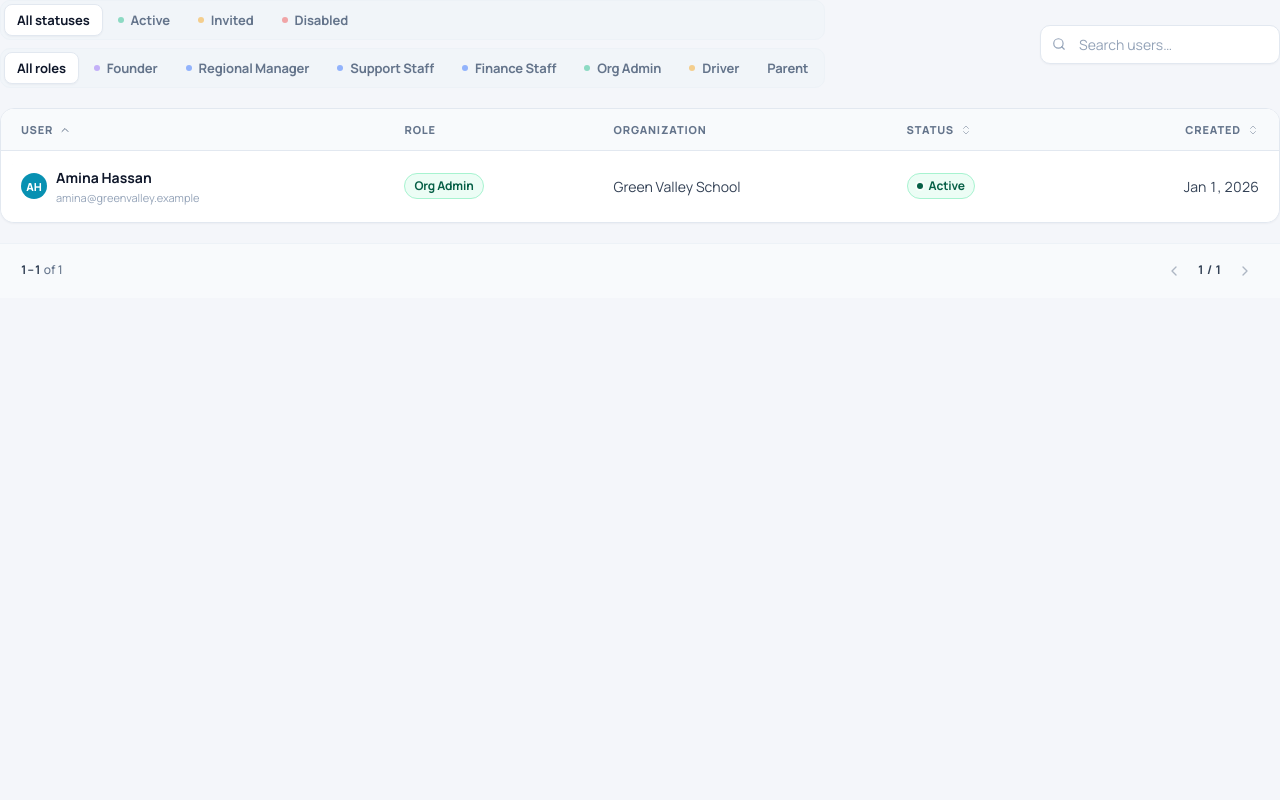
Scenario: UsersPage › regional_manager sees the Reset password action but not Activate/Disable
Click the text "Amina Hassan".
click(104, 178)  # box [56,168,152,187]
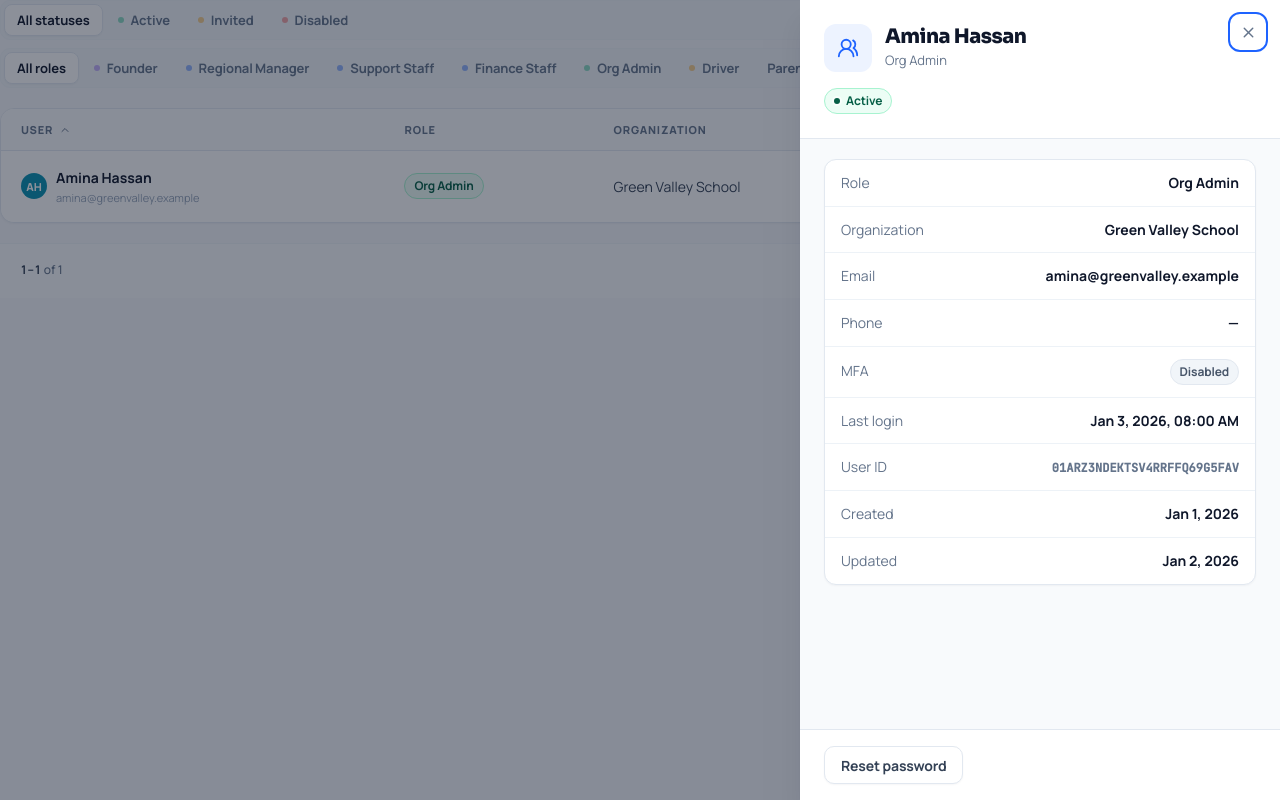
Expected: the button "Reset password" is shown, [824,746,964,784]
